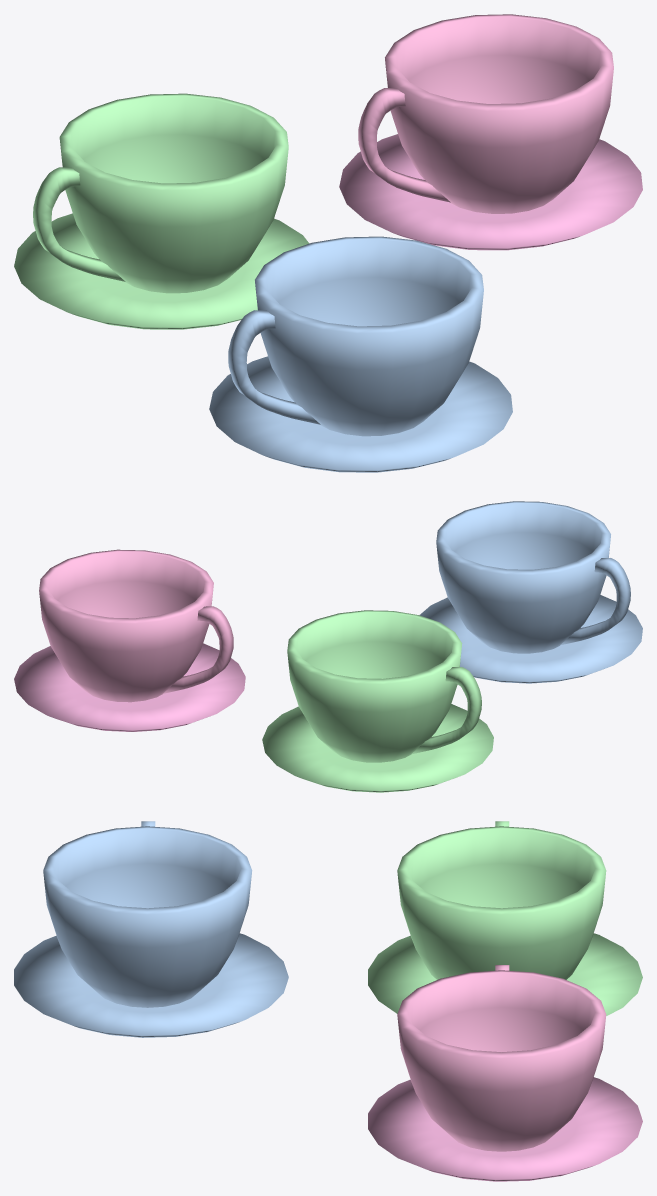
The model's file is kuppeja.fbx.
3 renders of one model, top to bottom at view 1: azimuth 30°, elevation 25°; view 2: azimuth 150°, elevation 25°; view 3: azimuth 270°, elevation 25°, orthographic. The views are drawn at different scales.
Visible parts, largest first — view 1: Circle.001, Circle.002, Circle; view 2: Circle, Circle.001, Circle.002; view 3: Circle.002, Circle.001, Circle.
Boxes of the visible parts, box(x1,y1,x2,y2) form: Circle.001: box(339, 14, 642, 250); Circle.002: box(209, 236, 512, 472); Circle: box(14, 93, 309, 329); Circle: box(262, 610, 493, 792); Circle.001: box(14, 549, 245, 731); Circle.002: box(419, 501, 642, 683); Circle.002: box(14, 821, 288, 1037); Circle.001: box(368, 965, 642, 1181); Circle: box(368, 821, 642, 1016).
Bounding box in the file's own units: 0.9815 × 0.2117 × 1.
